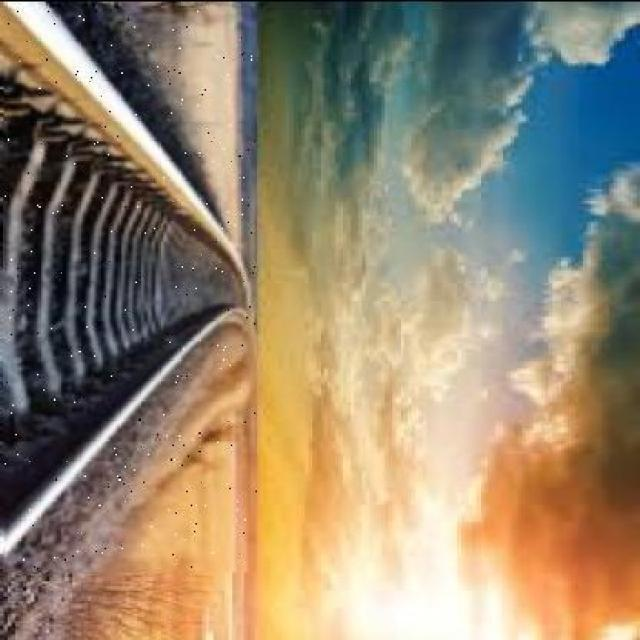rail: (6, 9, 257, 571)
